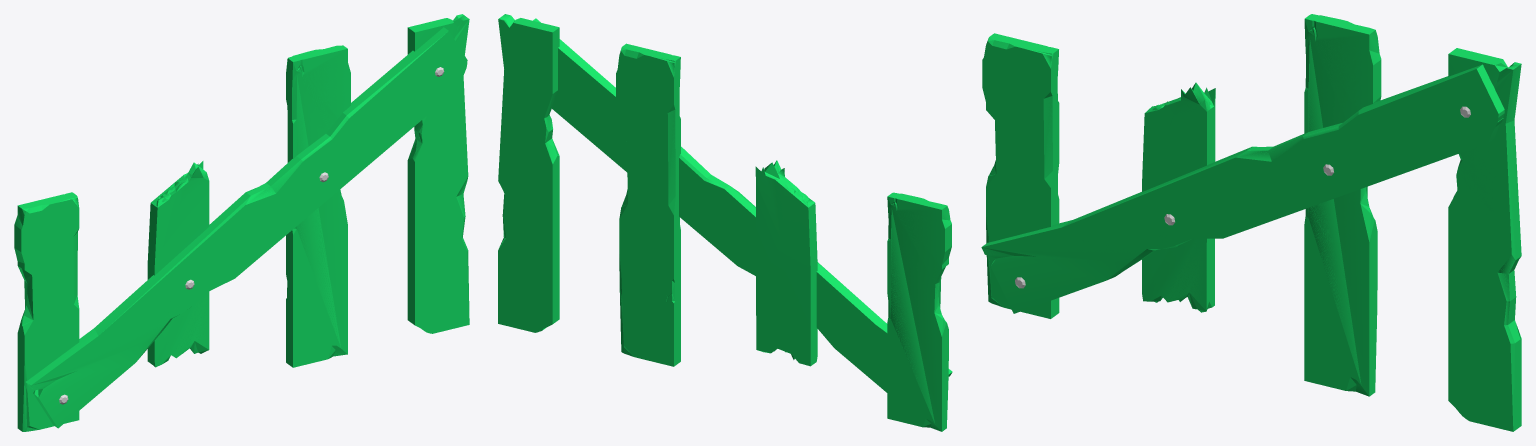
File: Płotek3.fbx
The picture shows the model from 3 angles, left to right: view 1: azimuth 30°, elevation 25°; view 2: azimuth 150°, elevation 25°; view 3: azimuth 330°, elevation 25°; orthographic projection. The views are drawn at different scales.
Visible parts, largest first — view 1: Plotek4; view 2: Plotek4; view 3: Plotek4.
Boxes of the visible parts, x1=… form: Plotek4: x1=14, y1=14, x2=469, y2=431; Plotek4: x1=498, y1=14, x2=952, y2=431; Plotek4: x1=981, y1=14, x2=1521, y2=431.
Size of the model in its own units: 368 by 240 by 19.48.
